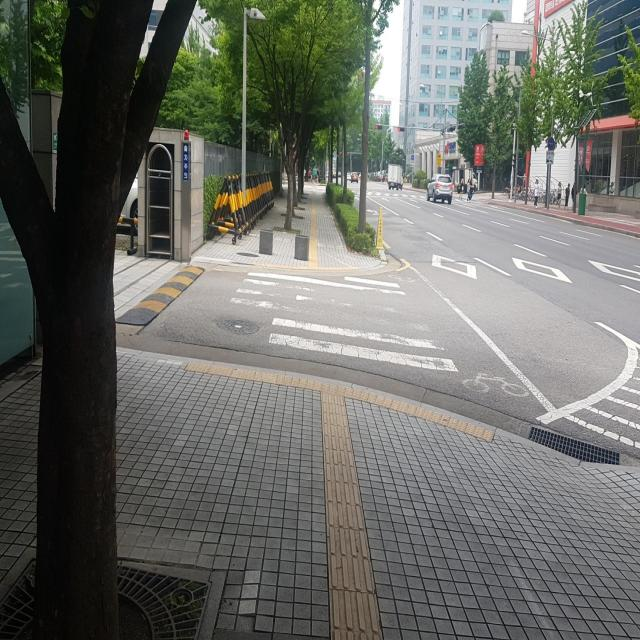횡단보도: (228, 271, 460, 373)
